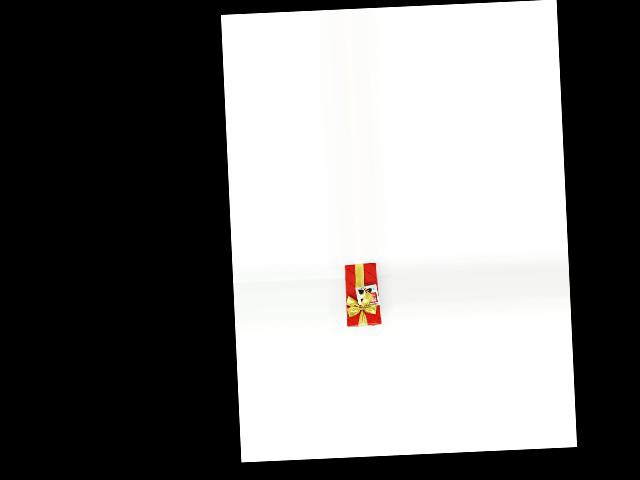chocolate: (341, 263, 381, 329)
